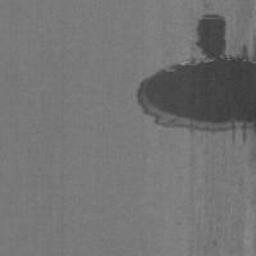Water spot: (137, 13, 256, 147)
